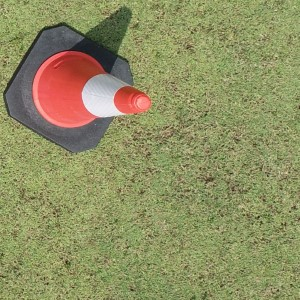traffic cone: (3, 21, 151, 154)
